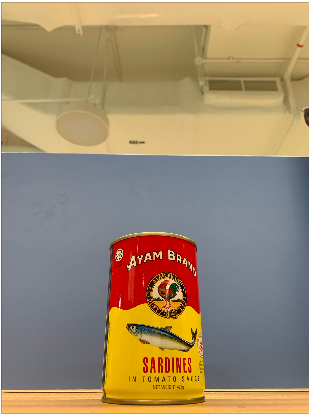Sardines_400-499g: (110, 244, 202, 393)
